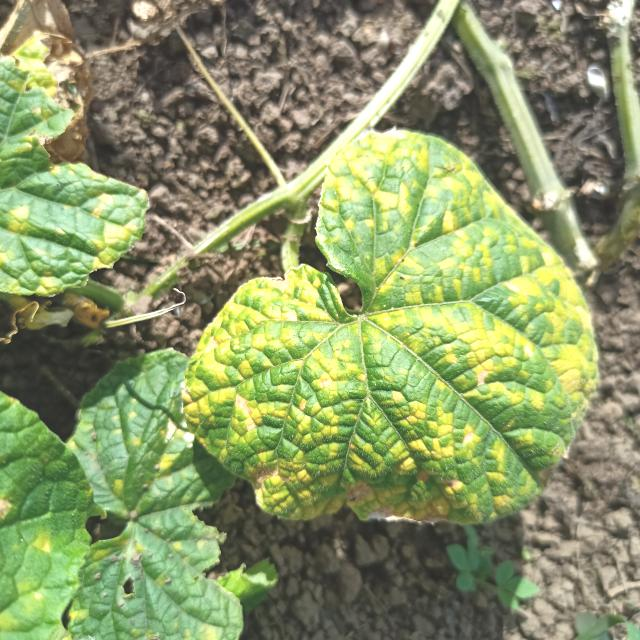disease_cucumber: (198, 134, 592, 515)
